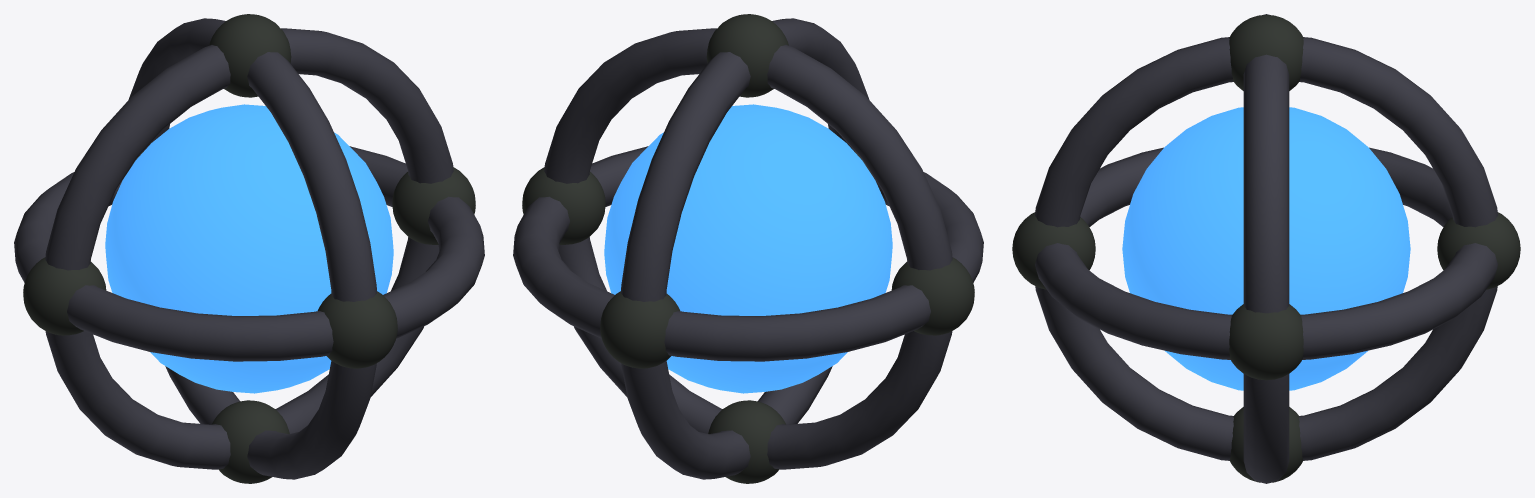
File: sticky.glb
3 views of the same model, side by side, from view 1: azimuth 30°, elevation 25°; view 2: azimuth 150°, elevation 25°; view 3: azimuth 270°, elevation 25° (orthographic).
Visible parts, largest first — view 1: Mesh_0; view 2: Mesh_0; view 3: Mesh_0.
Boxes of the visible parts, left/top/right/bottom form: Mesh_0: left=14, top=14, right=484, bottom=483; Mesh_0: left=513, top=14, right=983, bottom=483; Mesh_0: left=1012, top=14, right=1520, bottom=483.
Size of the model in its own units: 0.134 by 0.134 by 0.134.
